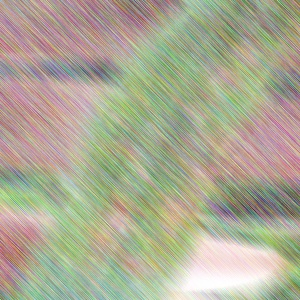Brown_Spot: (199, 120, 248, 189), (116, 238, 163, 284), (96, 200, 139, 248), (207, 70, 257, 108), (107, 134, 147, 167), (194, 49, 227, 88), (236, 1, 275, 31), (225, 40, 264, 64), (181, 126, 209, 155), (187, 96, 211, 128), (180, 149, 203, 179), (174, 183, 199, 209), (195, 163, 214, 189), (130, 219, 149, 243)
